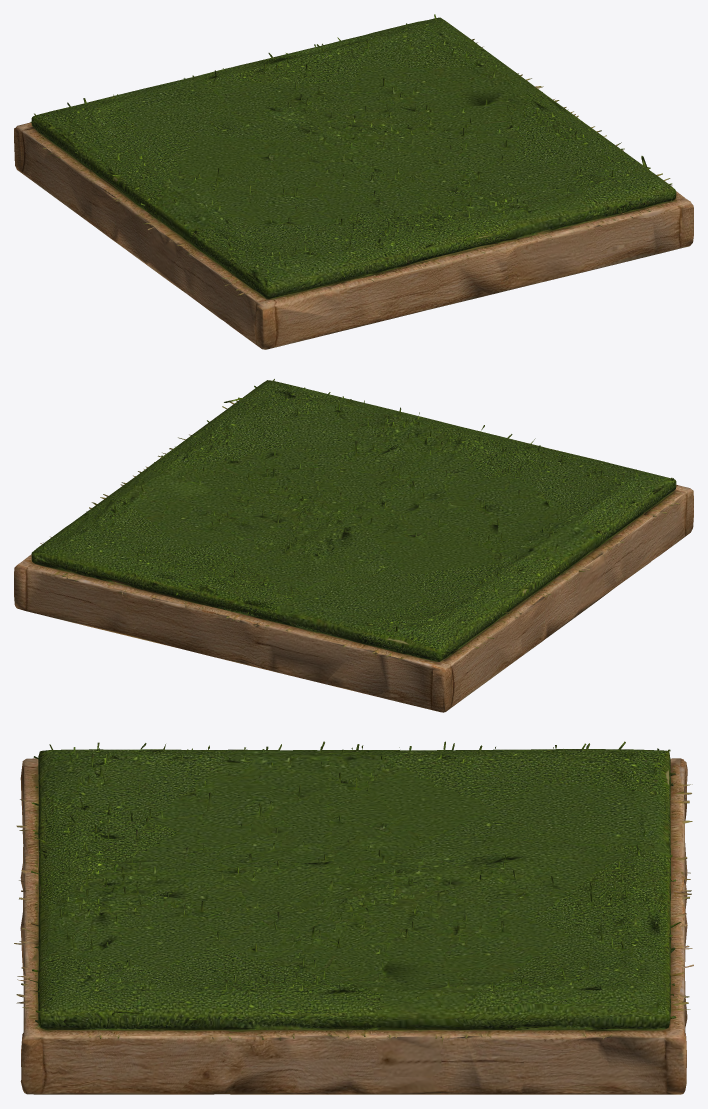
File: pnl_lawn.glb
The picture shows the model from 3 angles, top to bottom: view 1: azimuth 30°, elevation 25°; view 2: azimuth 150°, elevation 25°; view 3: azimuth 270°, elevation 25°; orthographic projection. The views are drawn at different scales.
Parts seen in each view (by area): view 1: tripo_node_a798ef68-236f-4c10-99d6-54520b6235b9; view 2: tripo_node_a798ef68-236f-4c10-99d6-54520b6235b9; view 3: tripo_node_a798ef68-236f-4c10-99d6-54520b6235b9.
Boxes of the visible parts, x1,y1,x2,y2 form: tripo_node_a798ef68-236f-4c10-99d6-54520b6235b9: [14, 14, 693, 349]; tripo_node_a798ef68-236f-4c10-99d6-54520b6235b9: [14, 379, 693, 712]; tripo_node_a798ef68-236f-4c10-99d6-54520b6235b9: [14, 741, 693, 1094].
Size of the model in its own units: 1.31 by 0.1973 by 1.31.
1 material, 1 textured.
